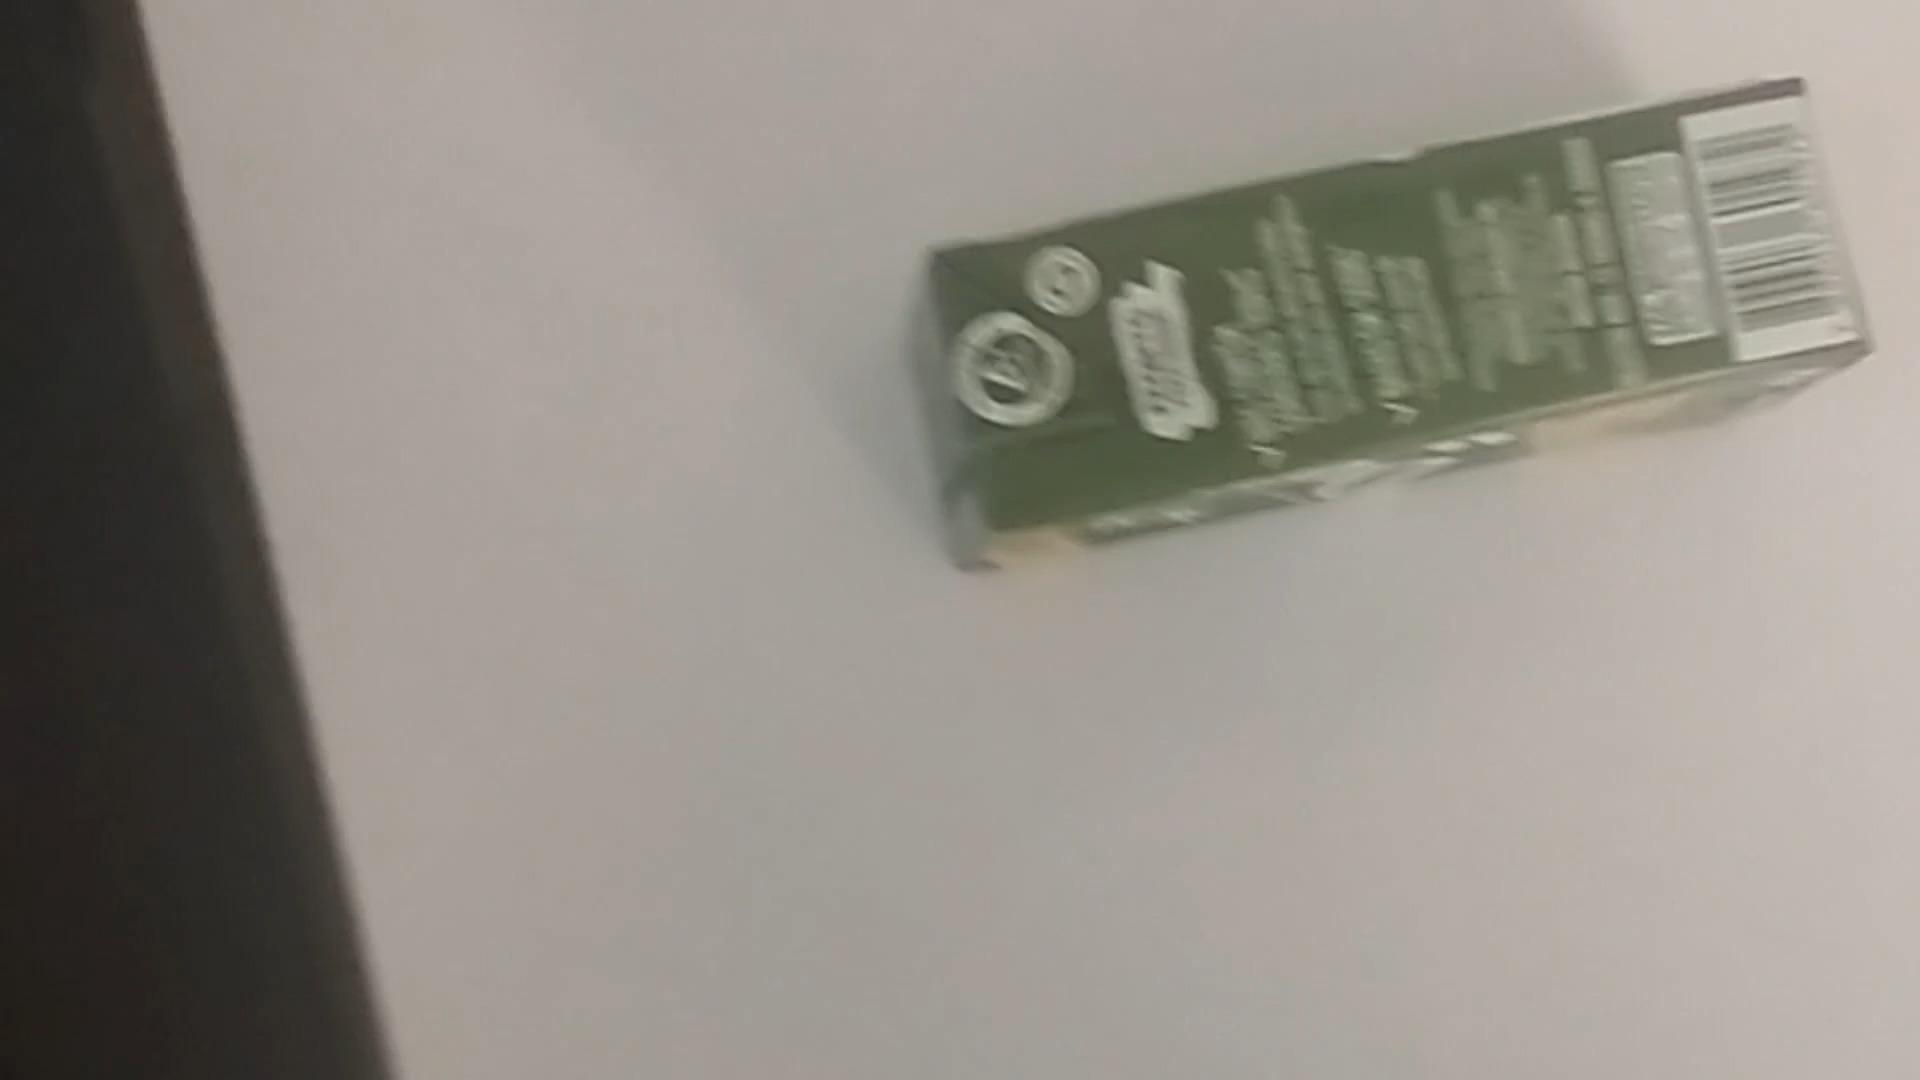coco: (899, 80, 1878, 597)
